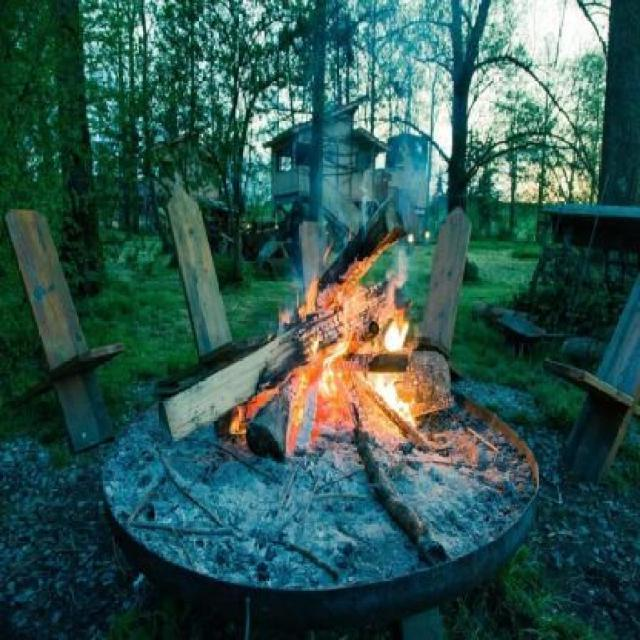Fire: (222, 244, 465, 468)
Smoke: (274, 0, 434, 332)
